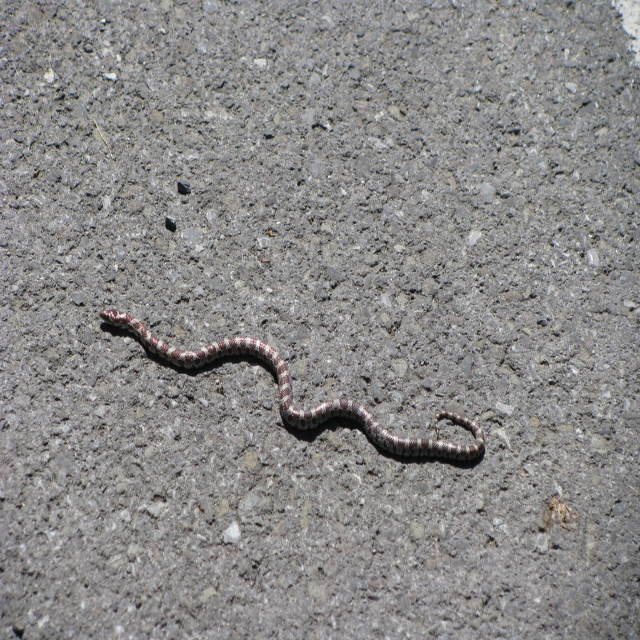Snake: (97, 309, 487, 458)
